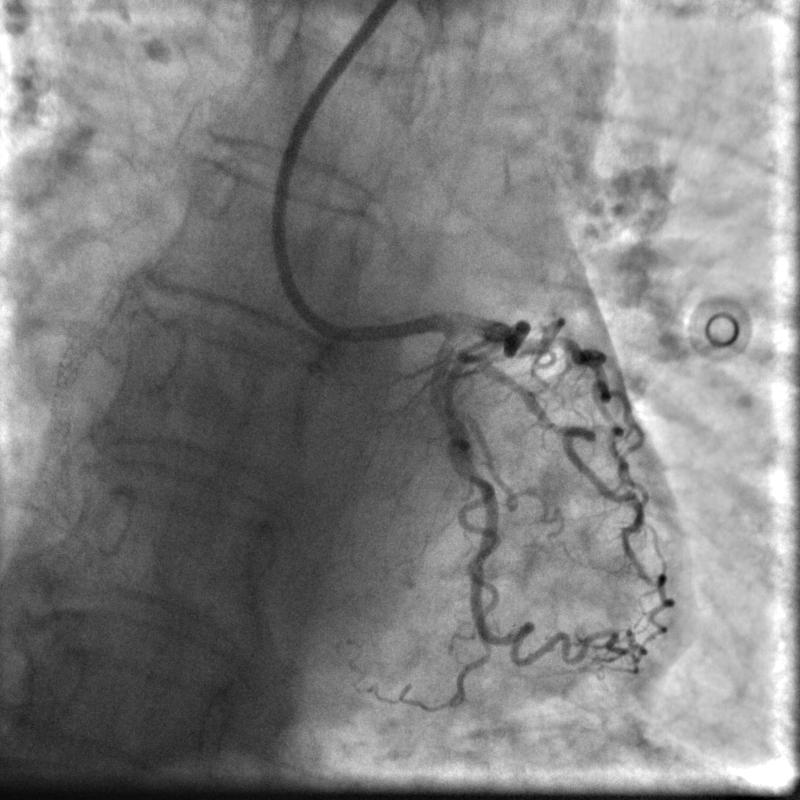Stenosis: (496, 318, 519, 351)
